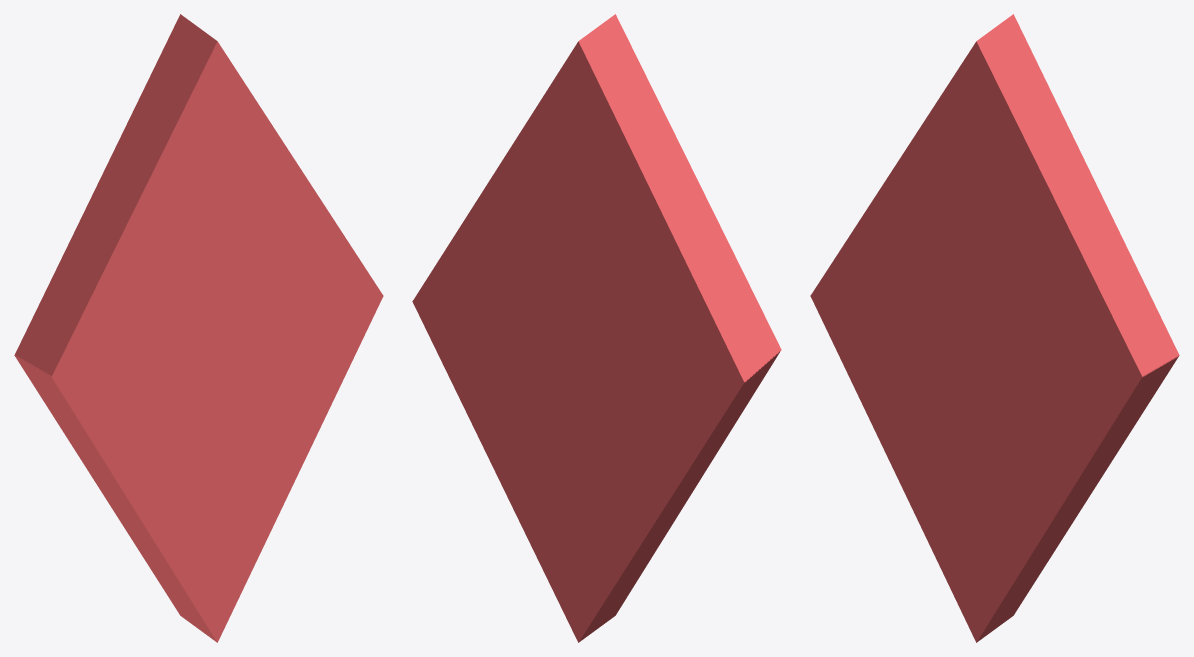
Rendered from diamanteprueba2.glb.
3 views of the same model, side by side, from view 1: azimuth 30°, elevation 25°; view 2: azimuth 150°, elevation 25°; view 3: azimuth 330°, elevation 25° (orthographic).
Visible parts, largest first — view 1: Cylinder.001; view 2: Cylinder.001; view 3: Cylinder.001.
Part boxes in pixels (x1,y1,x2,y2): Cylinder.001: (14, 14, 383, 642); Cylinder.001: (412, 14, 781, 642); Cylinder.001: (810, 14, 1179, 642).
Size of the model in its own units: 23.45 by 40.57 by 4.55.
